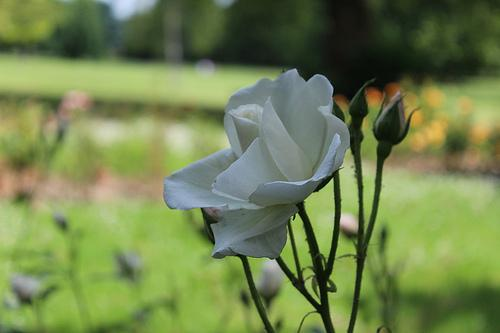Rose: (157, 66, 354, 262)
